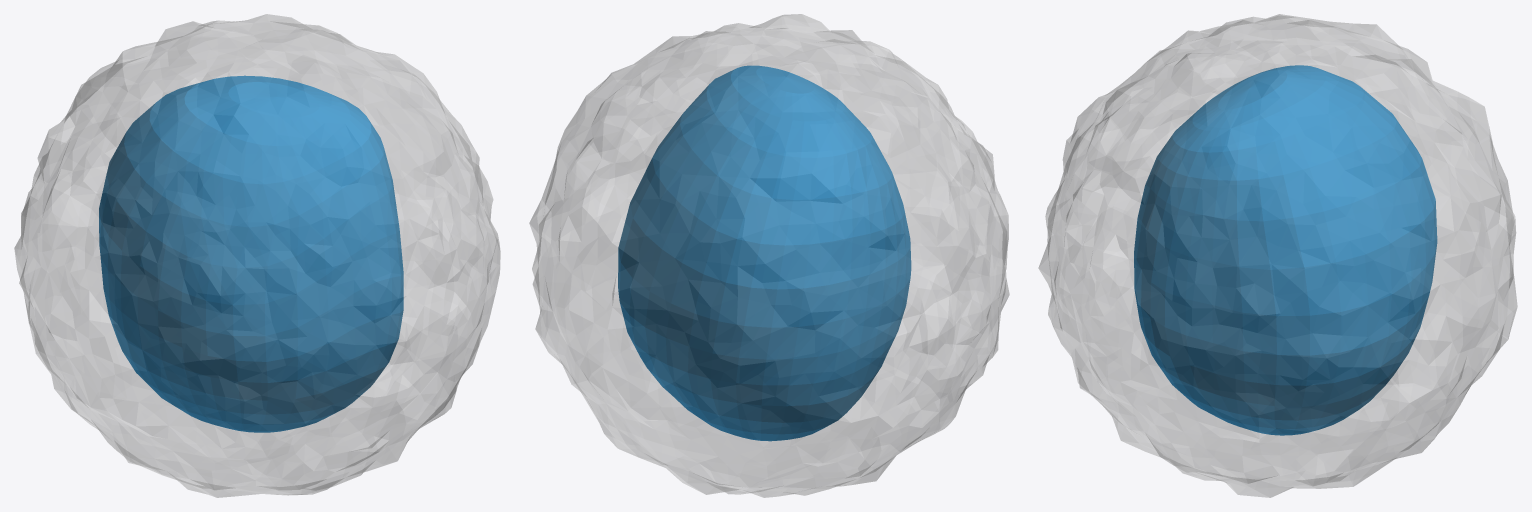
File: LIMFOSITB.obj
The picture shows the model from 3 angles, left to right: view 1: azimuth 30°, elevation 25°; view 2: azimuth 150°, elevation 25°; view 3: azimuth 270°, elevation 25°; orthographic projection.
Visible parts, largest first — view 1: Sphere_Sphere.008_Sphere_Sphere.008_Material.015, Sphere_Sphere.008_Sphere_Sphere.008_Material.014; view 2: Sphere_Sphere.008_Sphere_Sphere.008_Material.015, Sphere_Sphere.008_Sphere_Sphere.008_Material.014; view 3: Sphere_Sphere.008_Sphere_Sphere.008_Material.015, Sphere_Sphere.008_Sphere_Sphere.008_Material.014.
Boxes of the visible parts, box(x1,y1,x2,y2) form: Sphere_Sphere.008_Sphere_Sphere.008_Material.015: box(14, 14, 500, 497); Sphere_Sphere.008_Sphere_Sphere.008_Material.014: box(99, 75, 403, 432); Sphere_Sphere.008_Sphere_Sphere.008_Material.015: box(529, 14, 1009, 497); Sphere_Sphere.008_Sphere_Sphere.008_Material.014: box(618, 65, 911, 441); Sphere_Sphere.008_Sphere_Sphere.008_Material.015: box(1038, 14, 1517, 497); Sphere_Sphere.008_Sphere_Sphere.008_Material.014: box(1134, 65, 1437, 435).
Size of the model in its own units: 2.07 by 2.06 by 2.07.
